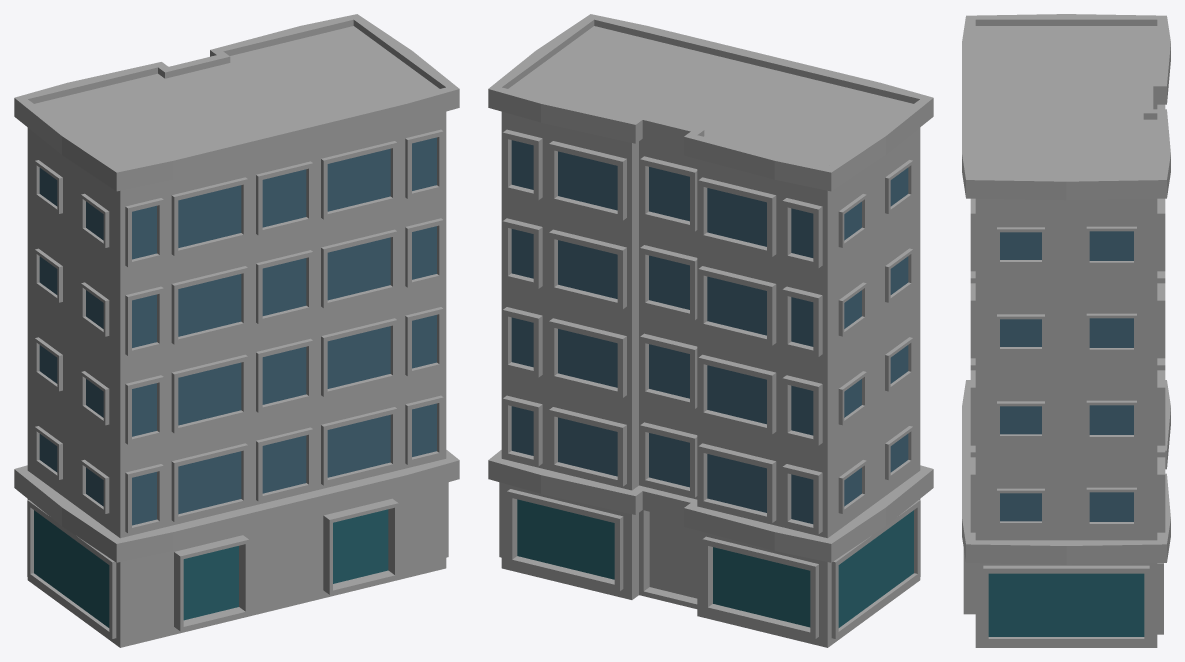
The model's file is budynek1.fbx.
3 renders of one model, left to right at view 1: azimuth 30°, elevation 25°; view 2: azimuth 150°, elevation 25°; view 3: azimuth 270°, elevation 25°, orthographic.
Parts seen in each view (by area): view 1: Cube.001, Cube.003, Cube, Cube.002; view 2: Cube.001, Cube.003, Cube, Cube.002; view 3: Cube.001, Cube.003, Cube, Cube.002.
Part boxes in pixels (x1,y1,x2,y2): Cube.001: (27, 111, 446, 538); Cube.003: (14, 14, 459, 191); Cube: (27, 482, 448, 647); Cube.002: (14, 450, 459, 562); Cube.001: (501, 111, 920, 538); Cube.003: (488, 14, 933, 191); Cube: (499, 482, 920, 647); Cube.002: (488, 450, 933, 562); Cube.001: (970, 104, 1165, 540); Cube.003: (962, 14, 1170, 200); Cube: (963, 548, 1163, 647); Cube.002: (962, 380, 1170, 564).
Size of the model in its own units: 437 by 573 by 230.
